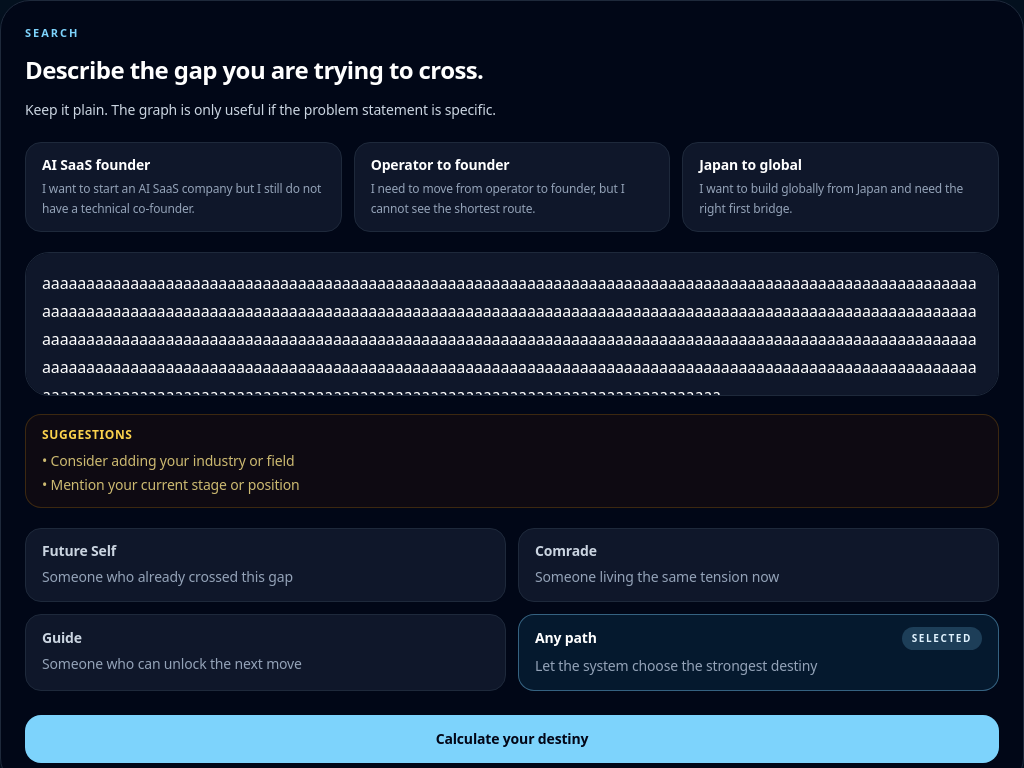
Test case: SearchInput › Input validation › shows error when input is too long
This screenshot has width=1024, height=768.
Click the button "Calculate your destiny" at (512, 738), box [25,714,999,762]
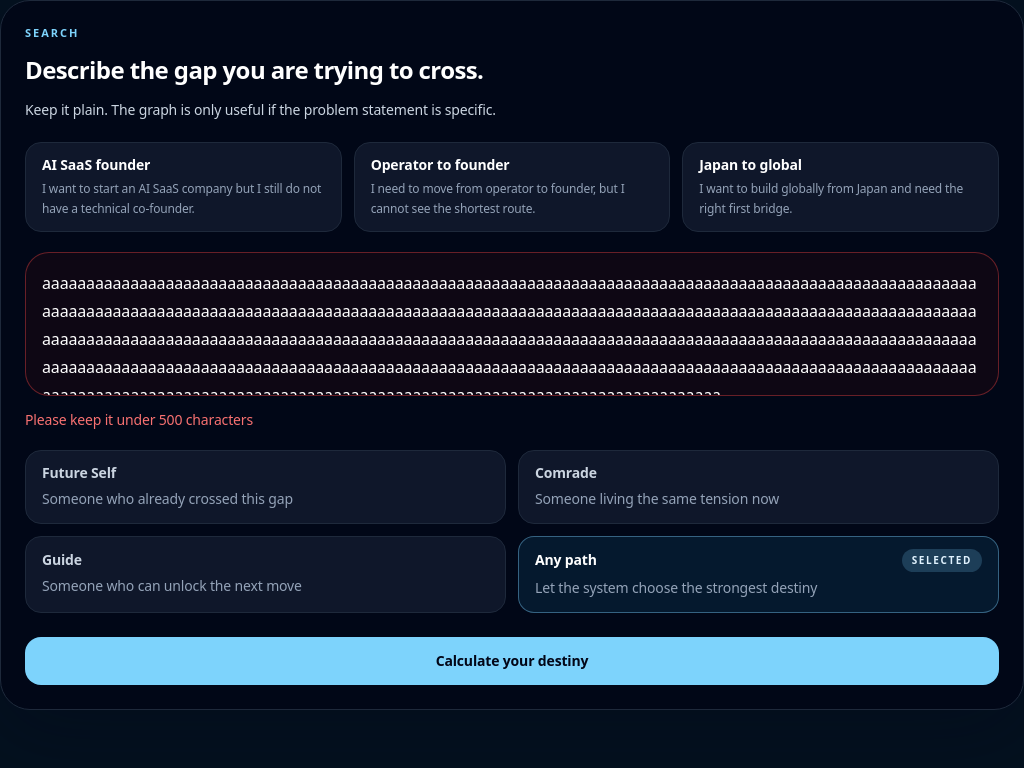
Result: the text "Please keep it under 500 characters" is shown at [25,410,253,428]
